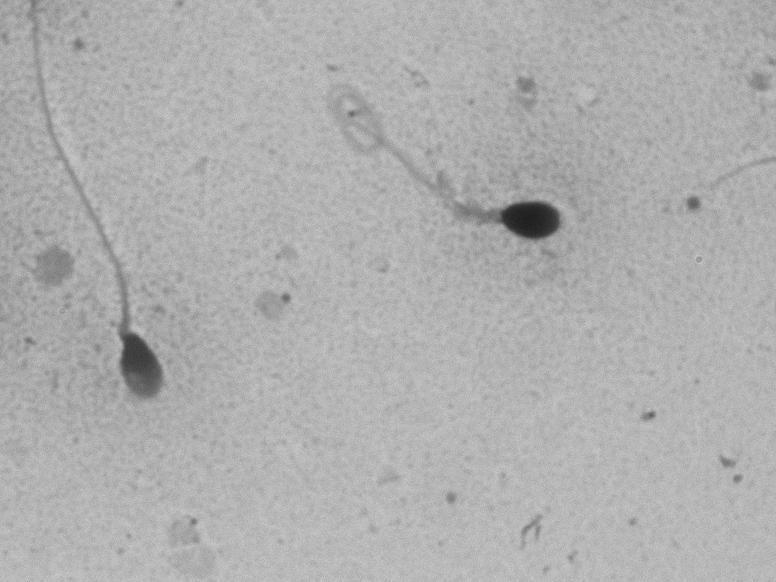Abnormal: (300, 56, 632, 289), (33, 88, 204, 417)
